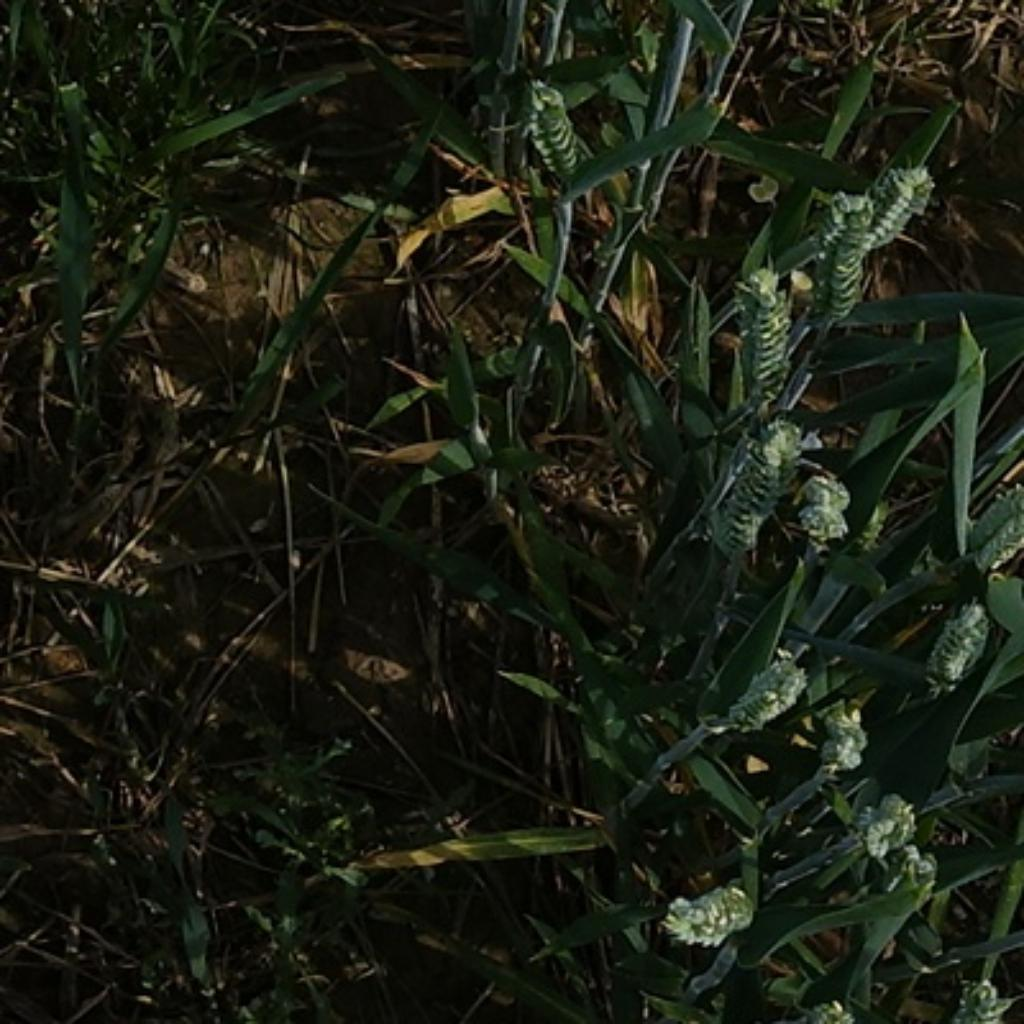0-0: (713, 418, 803, 557), (716, 642, 814, 734), (660, 878, 770, 949), (809, 191, 870, 317), (515, 84, 584, 179), (919, 602, 990, 691), (744, 267, 792, 391), (788, 460, 857, 545), (863, 162, 932, 243), (967, 479, 1024, 573), (806, 696, 872, 775), (855, 785, 926, 855)
